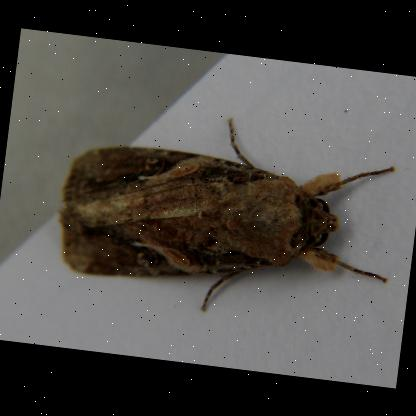Fall Armyworm Moth: (43, 94, 408, 336)
